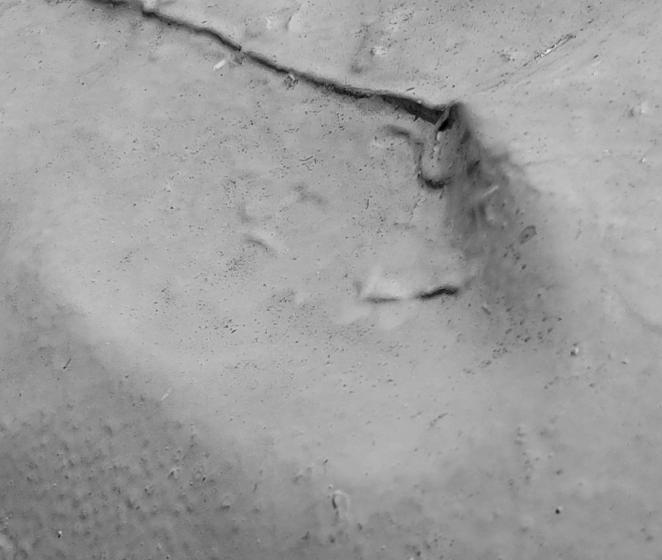dent: (1, 1, 662, 560)
